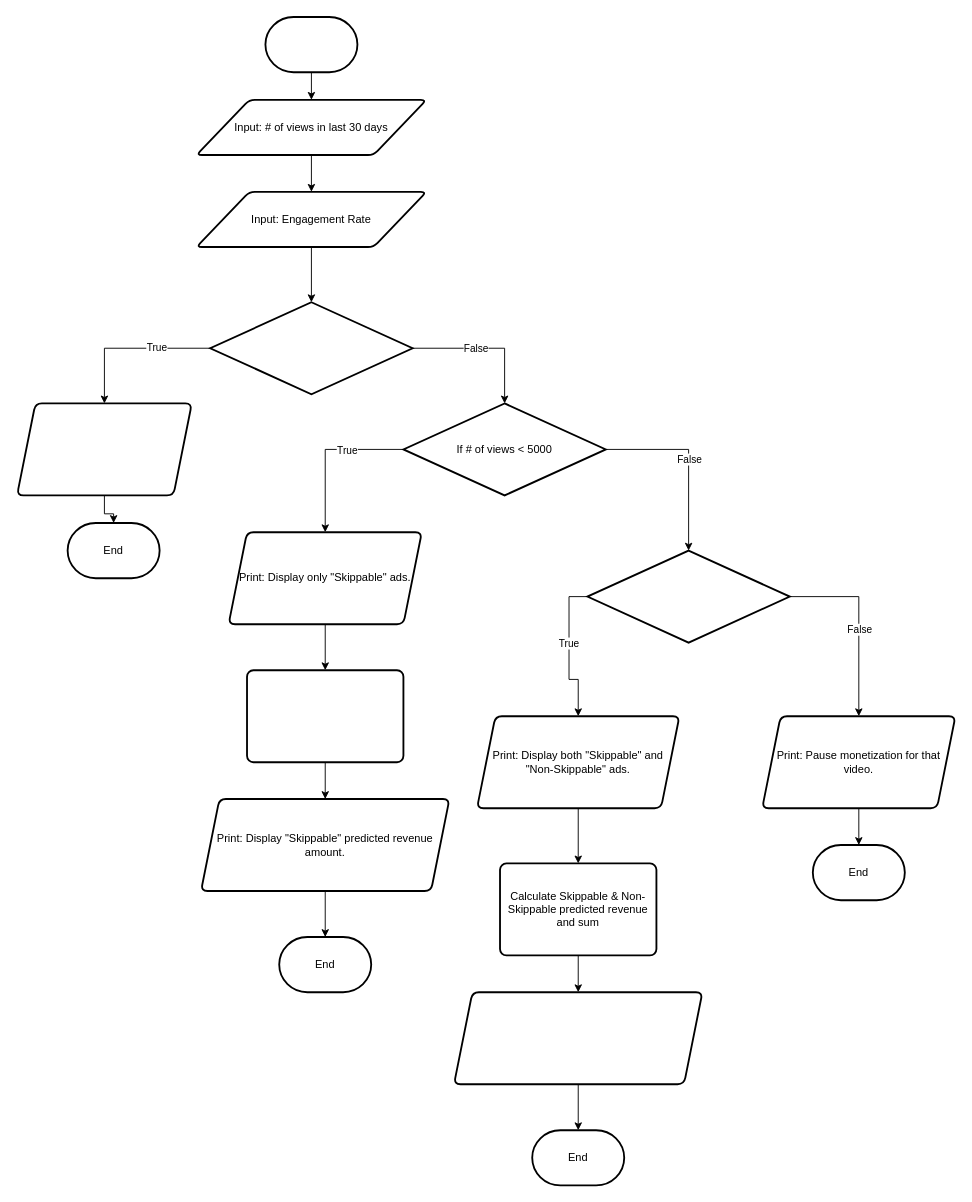
Some shapes in this 972 by 1202 pixel diagram are drawn without their labels. The shapes that lost their labels are listed below. From the top down, each one's centre as x and y in pixels, then its label:
(x=311, y=44): Start
(x=311, y=348): If # of views < 1000
(x=104, y=449): Print: Do not display any ads
(x=688, y=596): Engagement Rate > 2%
(x=325, y=716): Calculate Skippable predicted revenue
(x=578, y=1038): Print: Display "Skippable" & "Non-Skippable" predicted revenue amounts.
